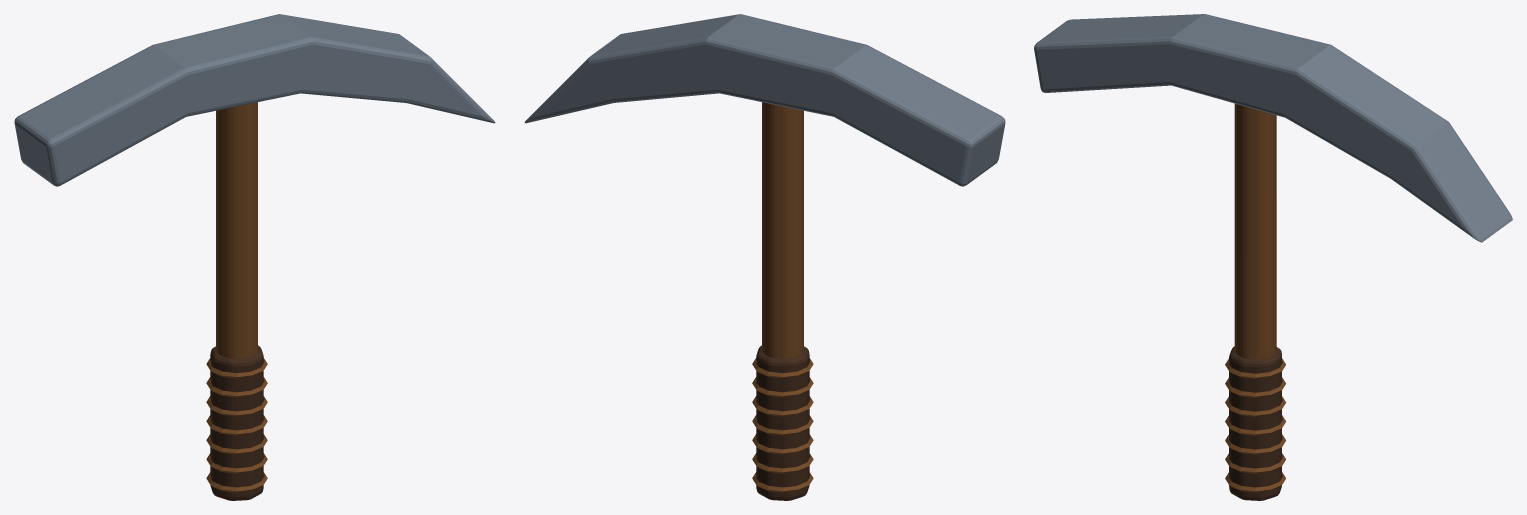
Rendered from Pickaxe.fbx.
The picture shows the model from 3 angles, left to right: view 1: azimuth 30°, elevation 25°; view 2: azimuth 150°, elevation 25°; view 3: azimuth 330°, elevation 25°; orthographic projection.
Parts seen in each view (by area): view 1: ArtTool_PickHead, ArtTool_Handle, ArtTool_Grip; view 2: ArtTool_PickHead, ArtTool_Handle, ArtTool_Grip; view 3: ArtTool_PickHead, ArtTool_Handle, ArtTool_Grip.
Part boxes in pixels (bbox=[...]): ArtTool_PickHead: bbox=[14, 14, 495, 186]; ArtTool_Handle: bbox=[216, 102, 257, 358]; ArtTool_Grip: bbox=[210, 345, 263, 500]; ArtTool_PickHead: bbox=[524, 14, 1005, 186]; ArtTool_Handle: bbox=[762, 102, 803, 358]; ArtTool_Grip: bbox=[756, 345, 809, 500]; ArtTool_PickHead: bbox=[1034, 14, 1512, 242]; ArtTool_Handle: bbox=[1234, 103, 1276, 359]; ArtTool_Grip: bbox=[1229, 346, 1281, 500].
Bounding box in the file's own units: 106 × 102 × 15.
